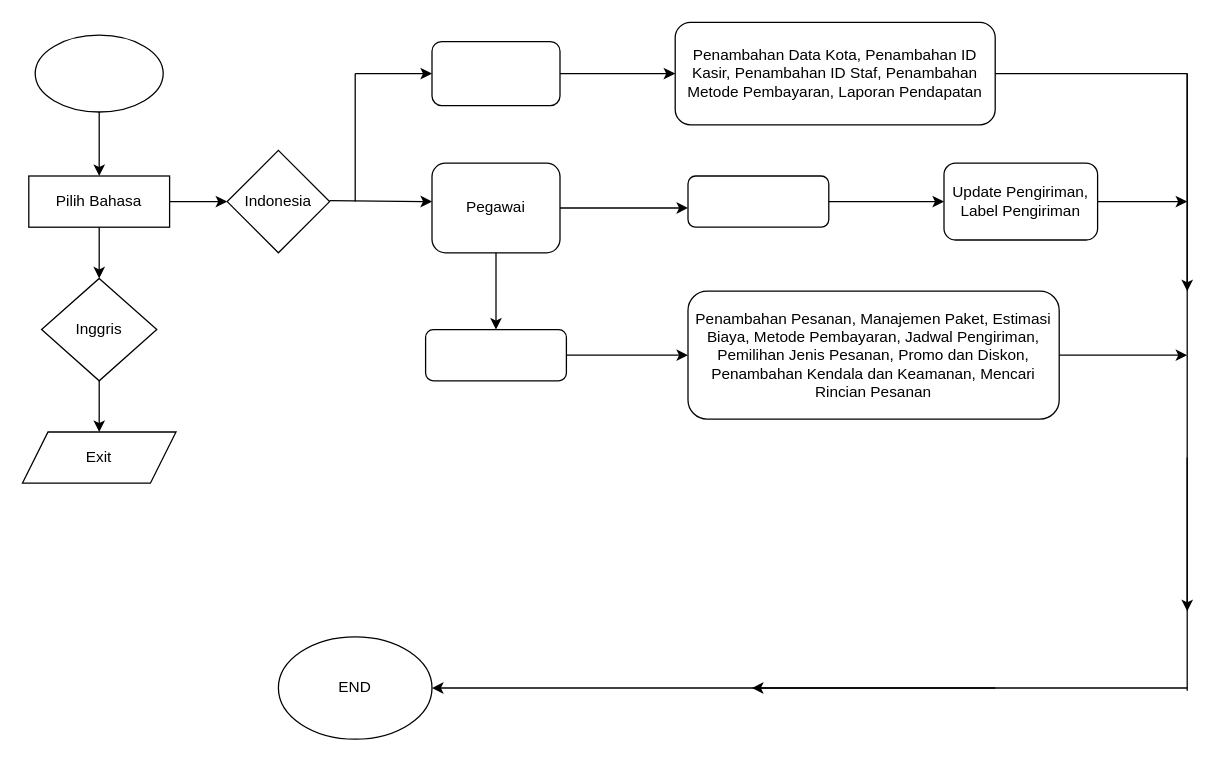
Image size: 1220x762. Some labels were removed from this diagram. Here are the shapes that lost their labels. From the top down, the centre of each, then its label:
[98,73]: START
[495,73]: Admin
[758,201]: Staf
[495,354]: Kasir
